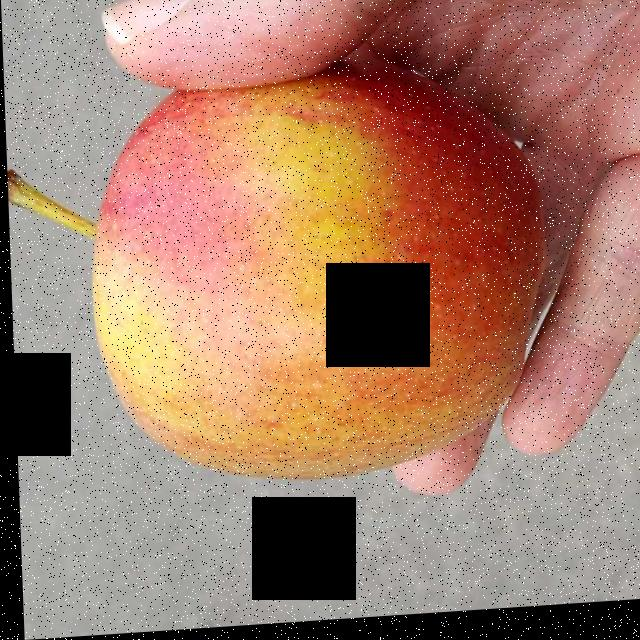apple: (94, 79, 540, 476)
